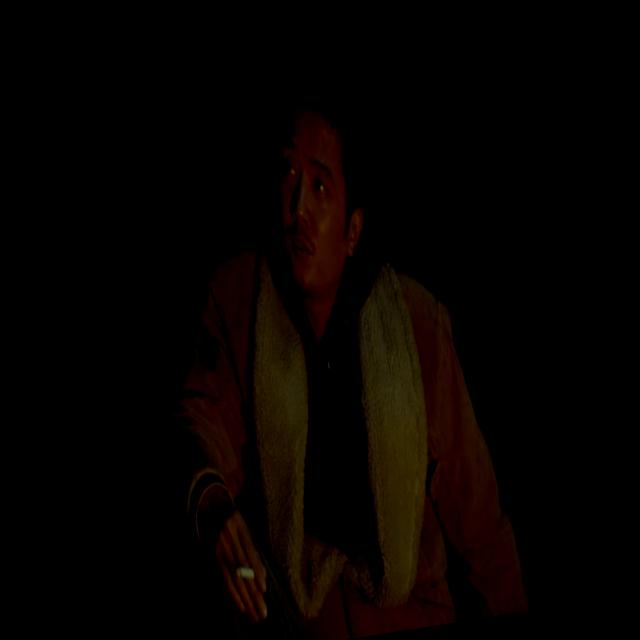smoke: (233, 556, 258, 596)
